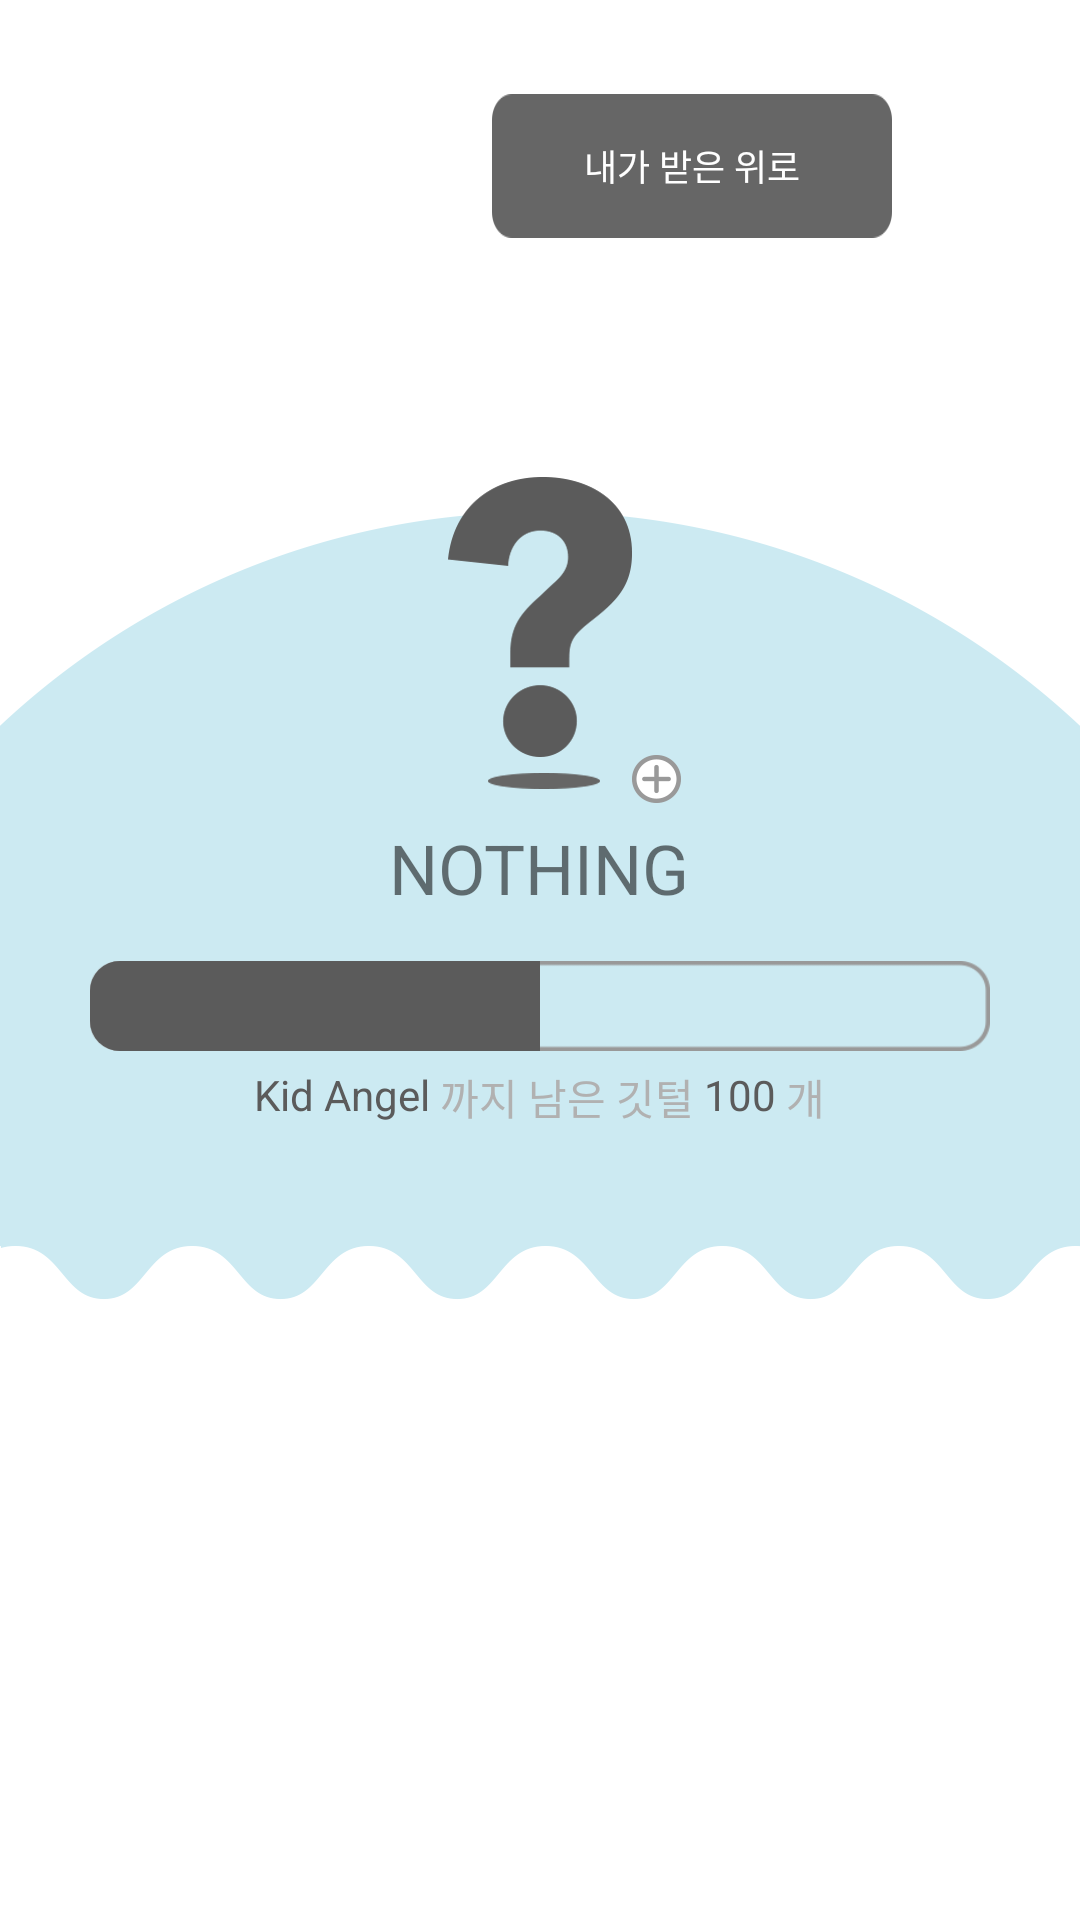

Named icons in this screenshot (1080px×1920px) and their centers, point (x, y):
plus: point (656, 779)
